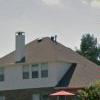Chimney: (8, 26, 29, 65)
